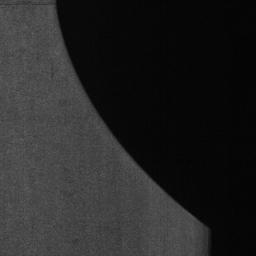Crescent gap: (56, 0, 207, 227)
